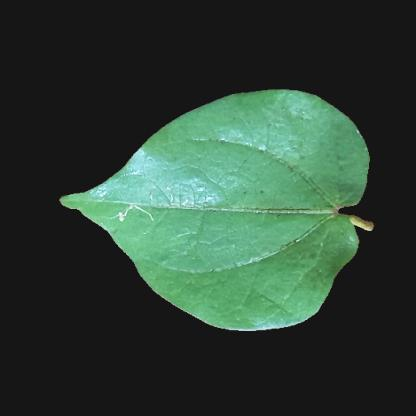healthy: (157, 149, 336, 279), (164, 281, 308, 320), (212, 101, 326, 143), (105, 174, 159, 242)
